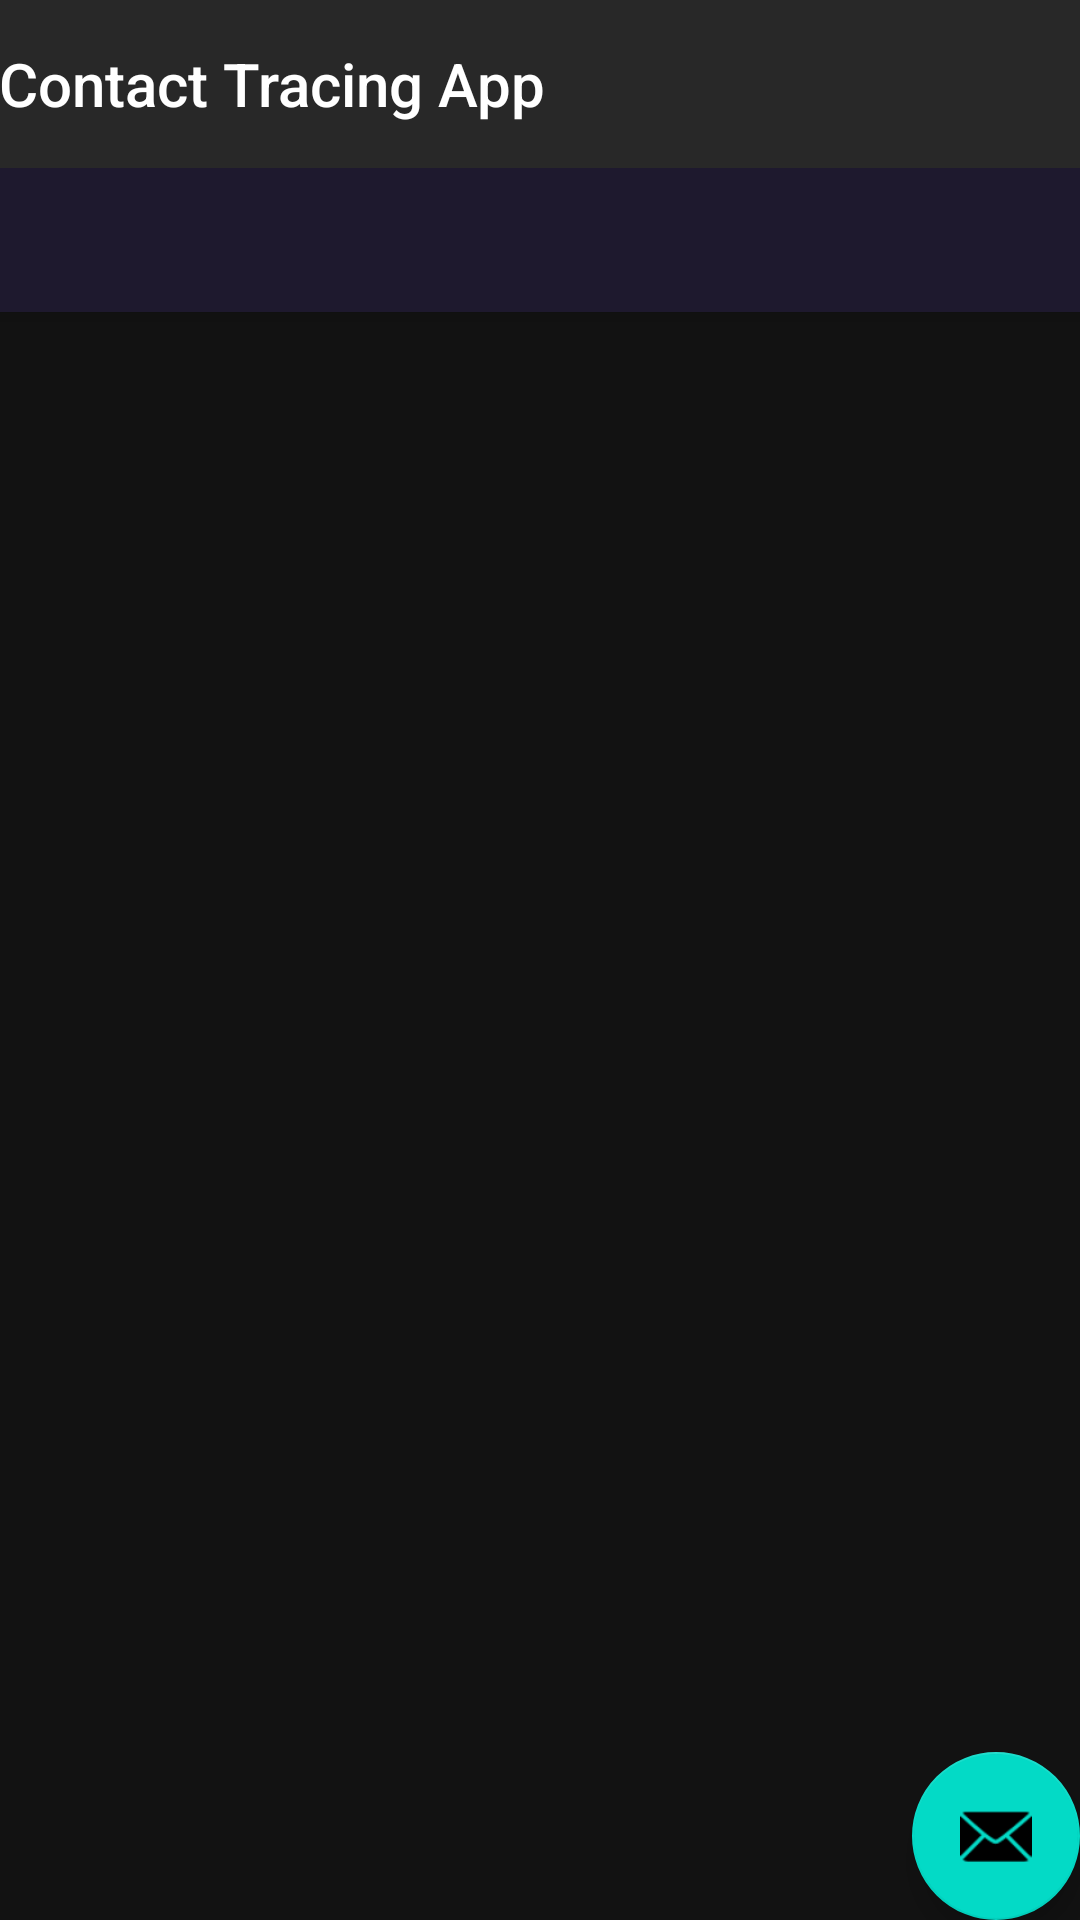

Point at icon controls on the screen. Image size 1080px×1920px, points as [x,y].
email: [996,1836]
